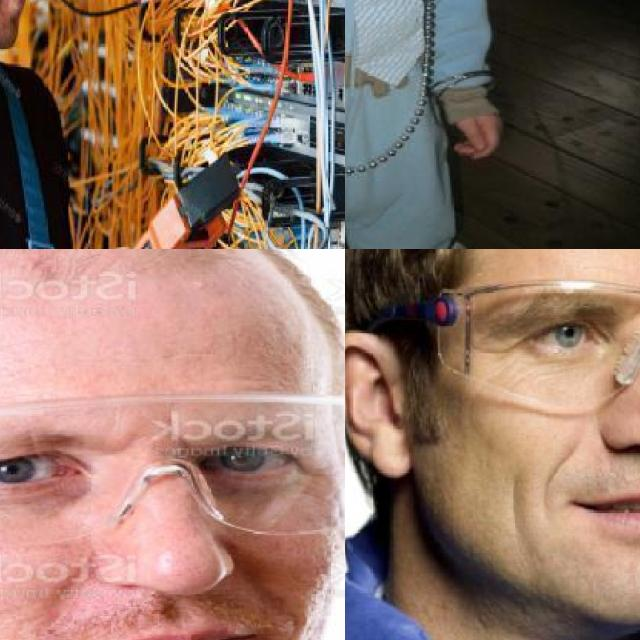No_Ear-Protection: (345, 323, 426, 482)
face_nomask: (0, 419, 294, 640), (507, 299, 640, 570)
glasses: (0, 385, 345, 540), (437, 270, 640, 411)
hand_noglove: (443, 110, 509, 170)
person: (0, 0, 179, 249), (345, 0, 520, 249)
